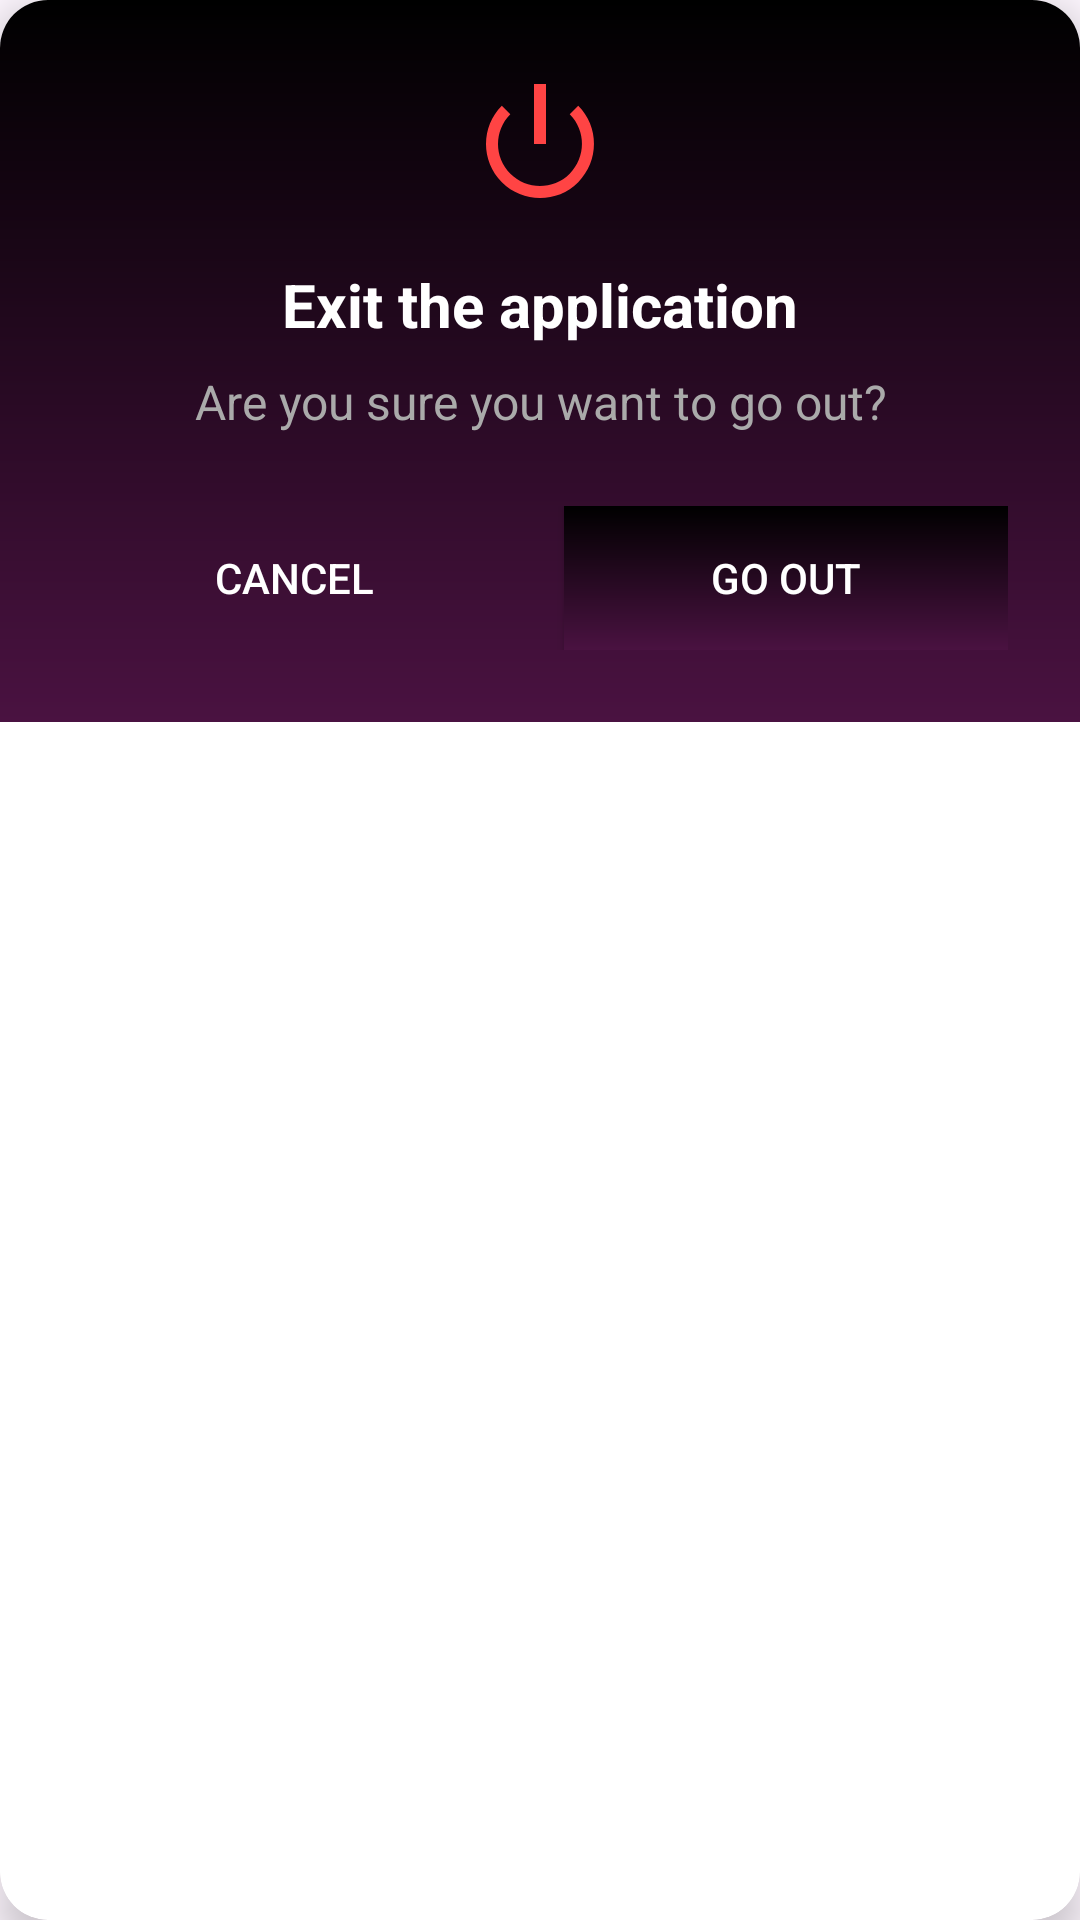

Screen size 1080 × 1920. Icon name, then its center in pixels as point (x, y):
lock power off: point (540, 141)
